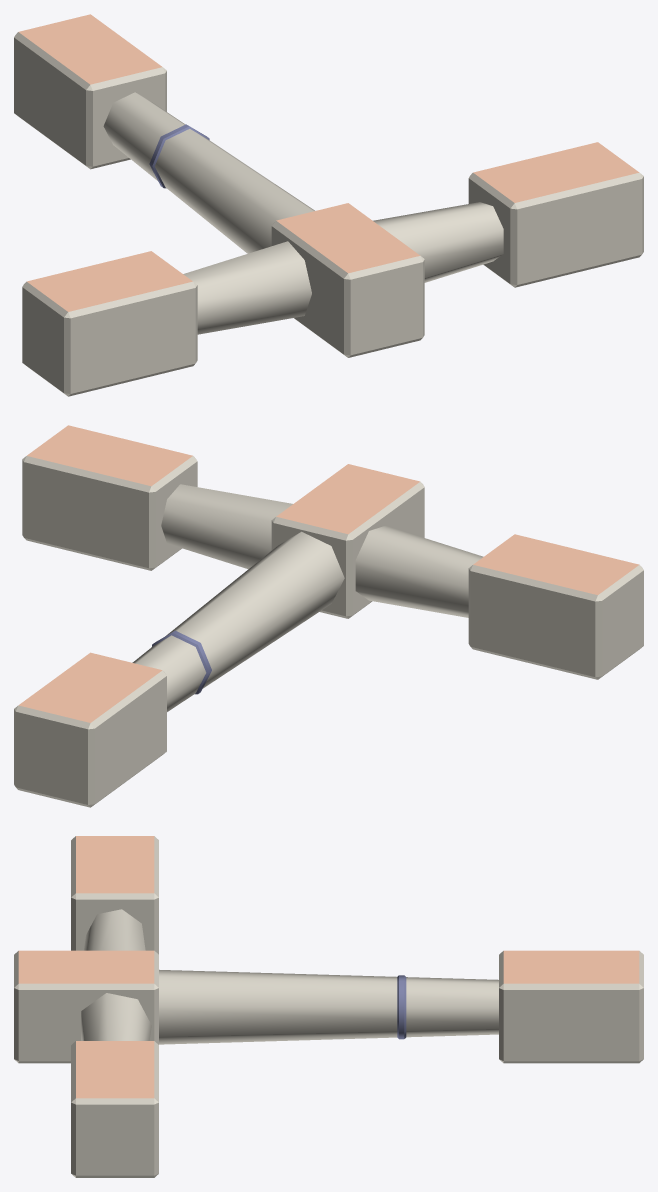
File: R4C_ROD_T_LOD1.fbx
3 renders of one model, top to bottom at view 1: azimuth 30°, elevation 25°; view 2: azimuth 150°, elevation 25°; view 3: azimuth 270°, elevation 25°, orthographic. The views are drawn at different scales.
Visible parts, largest first — view 1: R4C_ROD_T_LOD1; view 2: R4C_ROD_T_LOD1; view 3: R4C_ROD_T_LOD1.
Boxes of the visible parts, x1,y1,x2,y2 form: R4C_ROD_T_LOD1: (14,14,643,396); R4C_ROD_T_LOD1: (14,425,643,807); R4C_ROD_T_LOD1: (14,836,643,1177).
Bounding box in the file's own units: 1.62 × 0.226 × 1.62.
